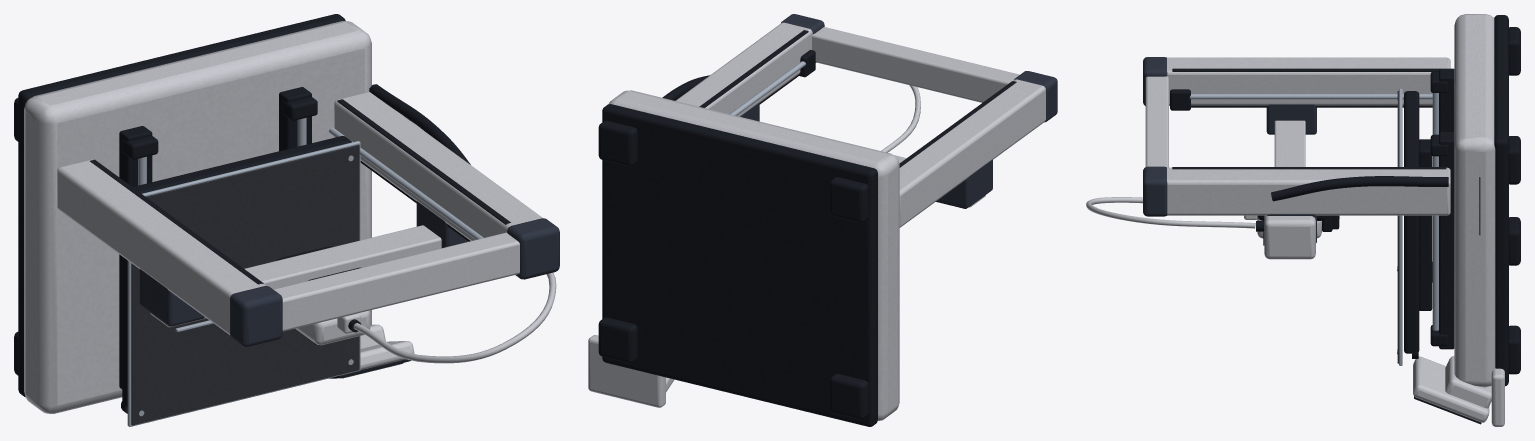
File: printer-a1.glb
3 renders of one model, left to right at view 1: azimuth 30°, elevation 25°; view 2: azimuth 150°, elevation 25°; view 3: azimuth 270°, elevation 25°, orthographic. The views are drawn at different scales.
Visible parts, largest first — view 1: Shell_Pearl, Textured_BuildPlate, Mechanics, Graphite, Machined_Aluminium; view 2: Mechanics, Shell_Pearl, Graphite, Machined_Aluminium; view 3: Shell_Pearl, Mechanics, Machined_Aluminium, Graphite, Textured_BuildPlate.
Part boxes in pixels (x1=…): Shell_Pearl: x1=24, y1=21, x2=556, y2=413; Textured_BuildPlate: x1=131, y1=144, x2=403, y2=425; Mechanics: x1=14, y1=14, x2=510, y2=413; Graphite: x1=139, y1=201, x2=559, y2=346; Machined_Aluminium: x1=127, y1=117, x2=483, y2=426; Mechanics: x1=598, y1=30, x2=1016, y2=426; Shell_Pearl: x1=588, y1=22, x2=1045, y2=420; Graphite: x1=740, y1=14, x2=1057, y2=207; Machined_Aluminium: x1=730, y1=61, x2=805, y2=115; Shell_Pearl: x1=1086, y1=14, x2=1504, y2=426; Mechanics: x1=1170, y1=15, x2=1520, y2=424; Machined_Aluminium: x1=1190, y1=88, x2=1438, y2=365; Graphite: x1=1143, y1=57, x2=1316, y2=242; Textured_BuildPlate: x1=1397, y1=91, x2=1398, y2=363.
Bounding box in the file's own units: 0.542 × 0.518 × 0.7263.
Materials: 6 (4 with a texture image).
